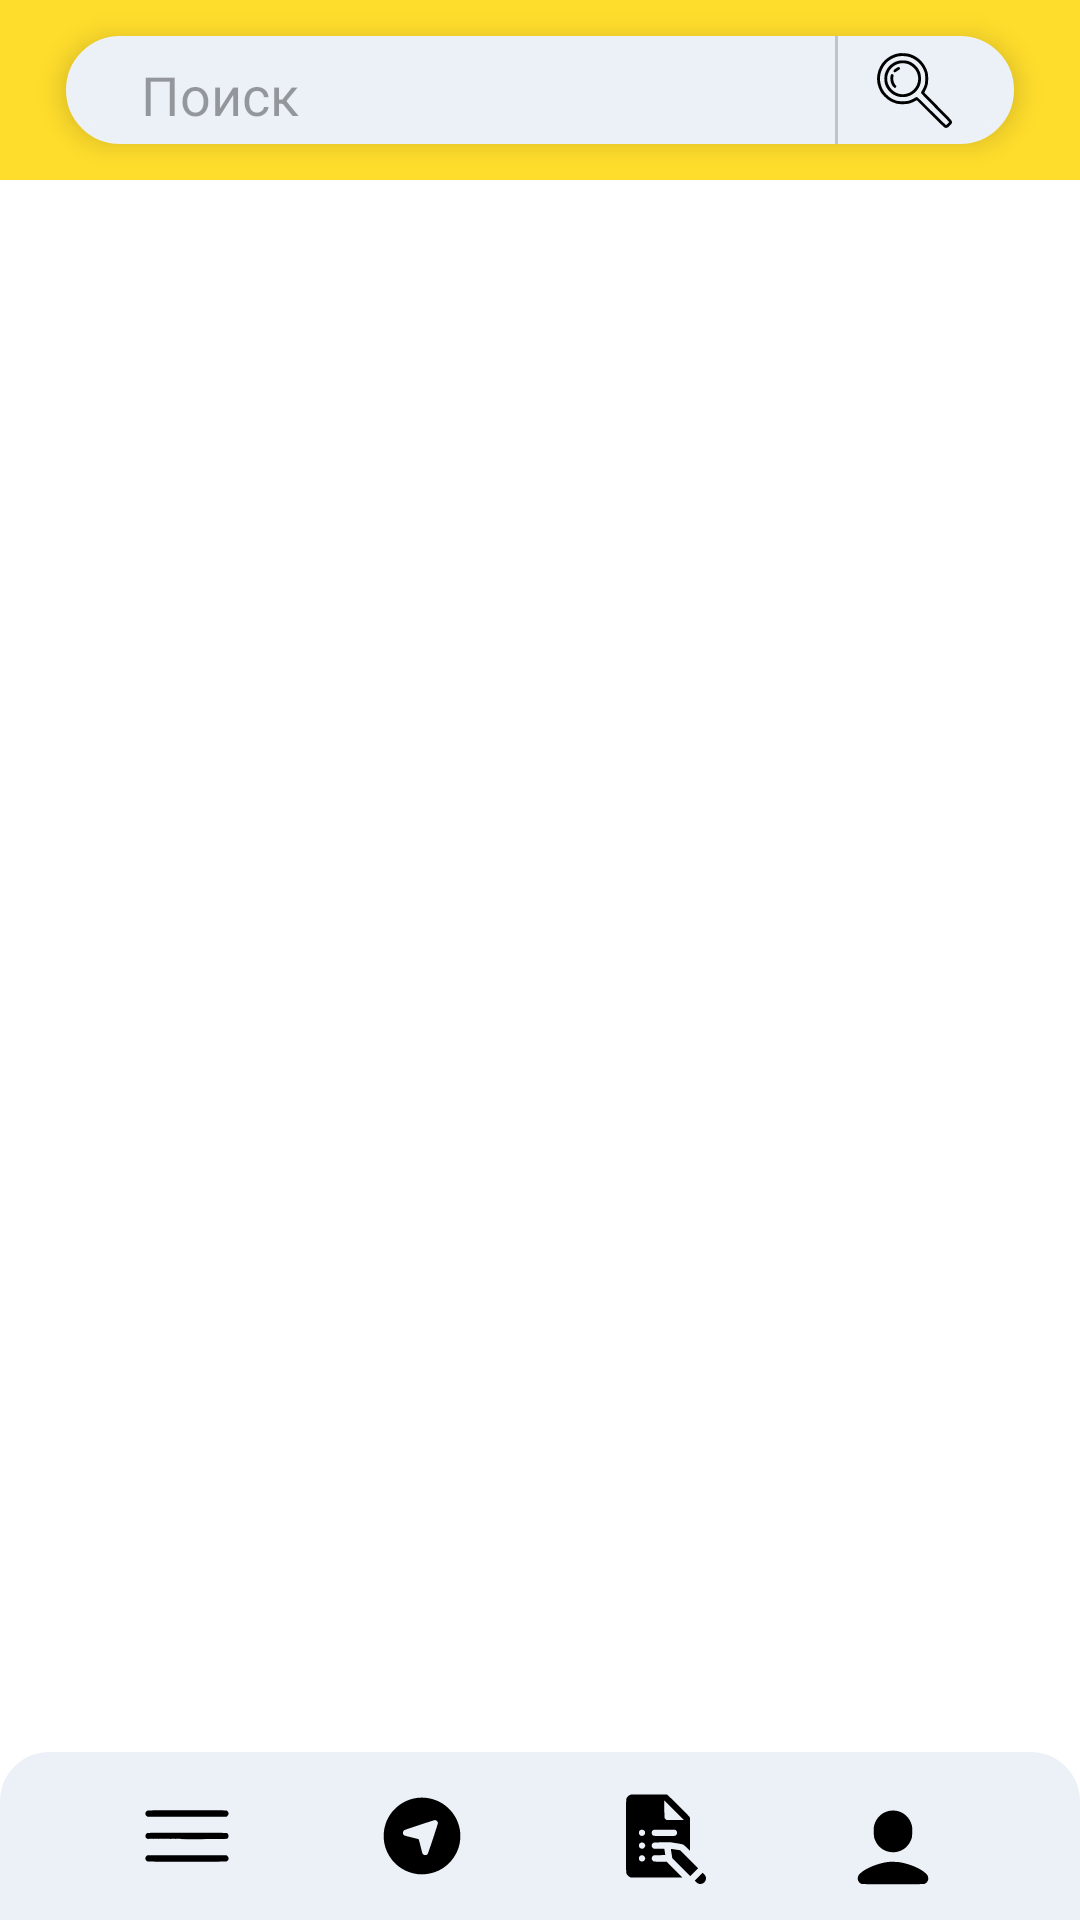

Named icons in this screenshot (1080 × 1920) and their centers, [x,y]:
near me: [422,1836]
reservation: [666,1839]
search: [914,90]
user: [893,1847]
